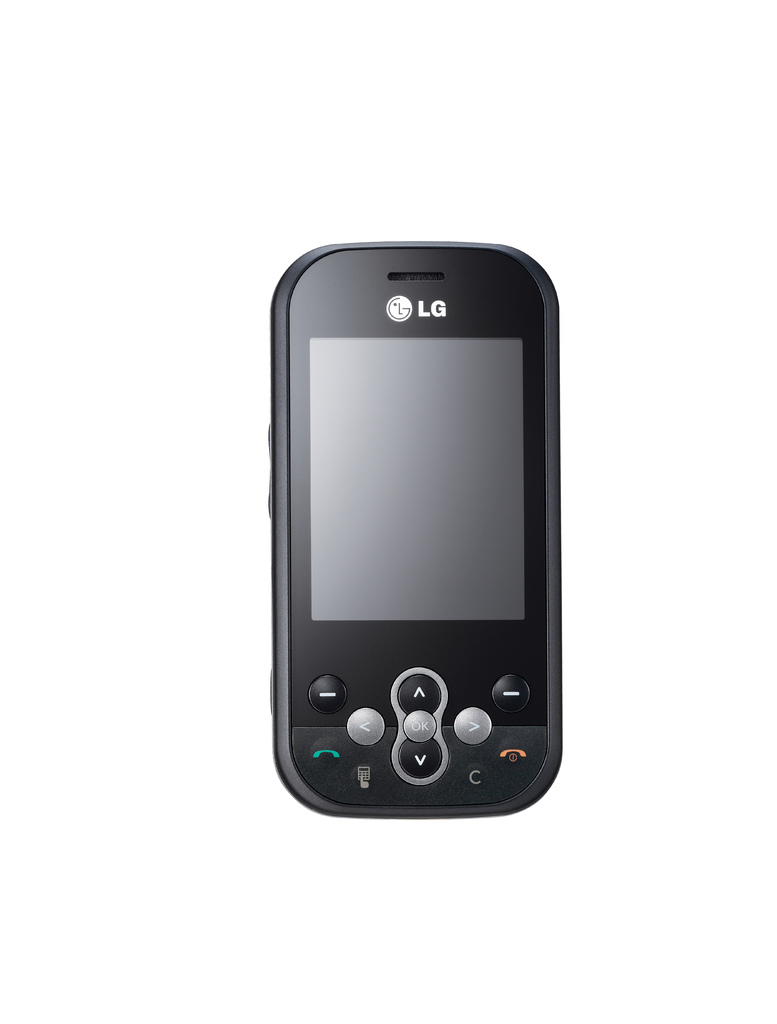mobile phone: (259, 230, 580, 828)
